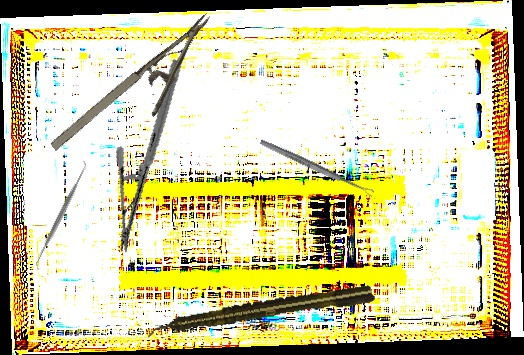Handpiece: (145, 282, 376, 340)
Needle Holder: (46, 12, 237, 178), (79, 57, 221, 255)
Spatula Surgical: (28, 159, 94, 272)
Surgical Spoon: (259, 138, 375, 198)
